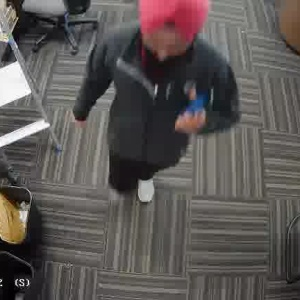person: (89, 0, 240, 217)
